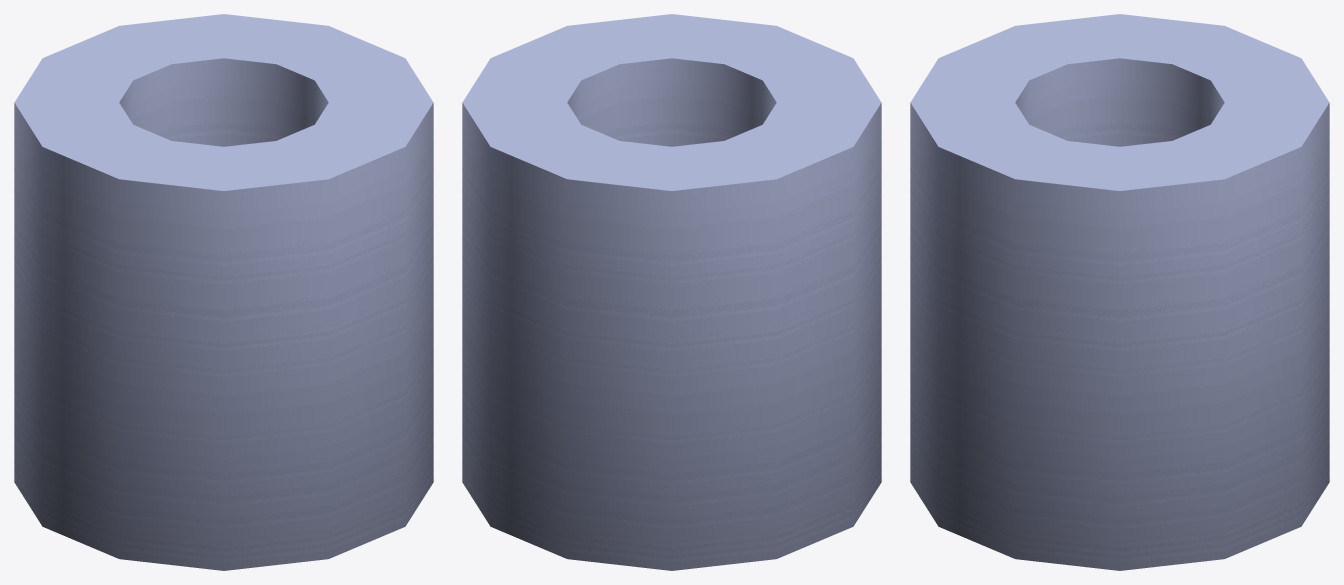
The model's file is shape-hollow-cylinder.glb.
The picture shows the model from 3 angles, left to right: view 1: azimuth 30°, elevation 25°; view 2: azimuth 150°, elevation 25°; view 3: azimuth 270°, elevation 25°; orthographic projection.
Visible parts, largest first — view 1: shape-hollow-cylinder; view 2: shape-hollow-cylinder; view 3: shape-hollow-cylinder.
Boxes of the visible parts, x1=… form: shape-hollow-cylinder: x1=14, y1=14, x2=433, y2=570; shape-hollow-cylinder: x1=462, y1=14, x2=881, y2=570; shape-hollow-cylinder: x1=910, y1=14, x2=1329, y2=570.
Bounding box in the file's own units: 1 × 1 × 1.
1 material, 1 textured.
